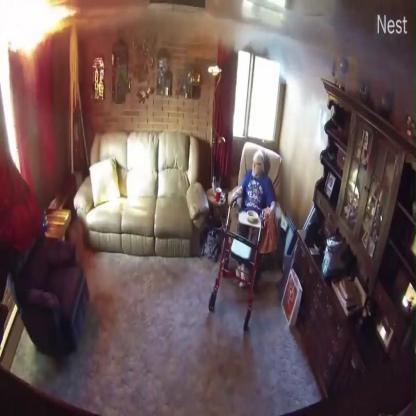fire: (1, 0, 75, 55)
